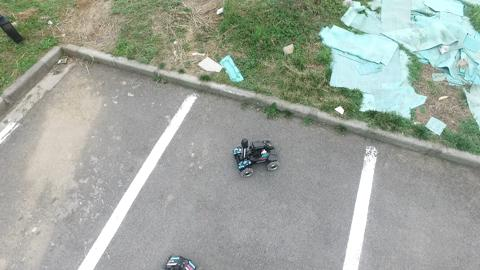chariot: (225, 131, 286, 181)
